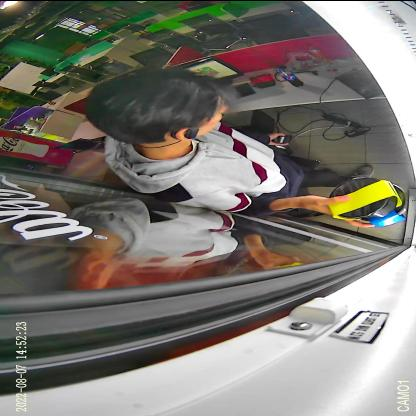blue: (360, 182, 408, 226)
yellow: (328, 176, 402, 220)
